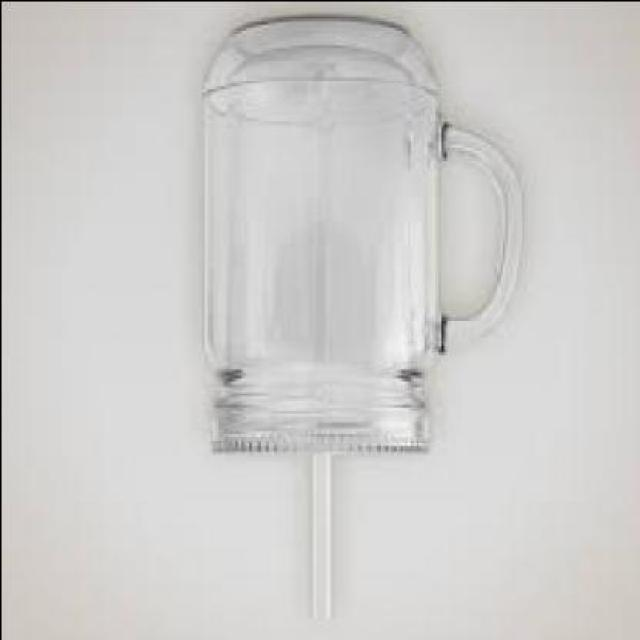GLASS: (194, 18, 520, 453)
